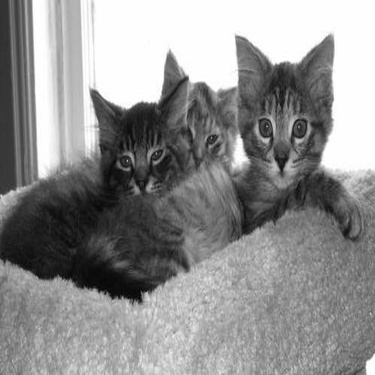cat: (68, 31, 364, 299), (3, 73, 189, 300), (160, 43, 237, 175)
